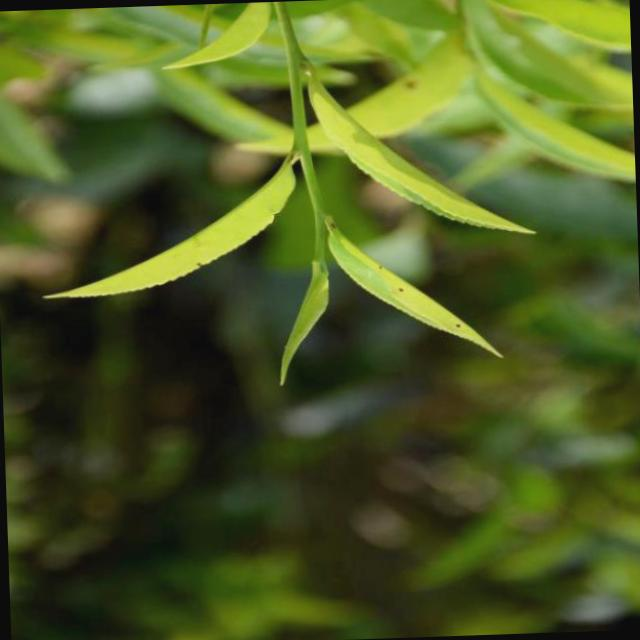Stem: (310, 195, 329, 218)
